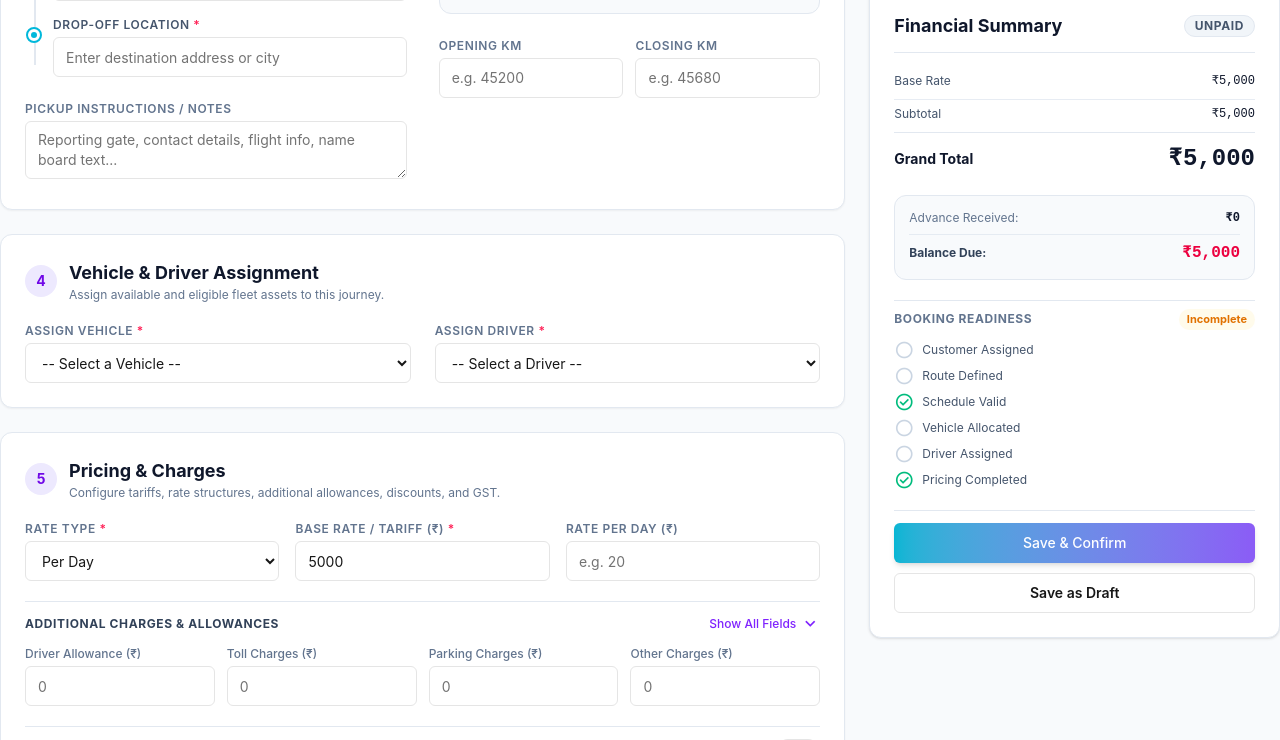
Scenario: TripForm Component › shows vehicle and driver snapshot cards with availability and compliance badges
(page scrolled)
Select "MH 12 AB 1234 — Toyota Innova Crysta (7 Seats)" in the dropdown labelled "Assign Vehicle *" at coordinates (218, 363), box [25, 343, 411, 383]
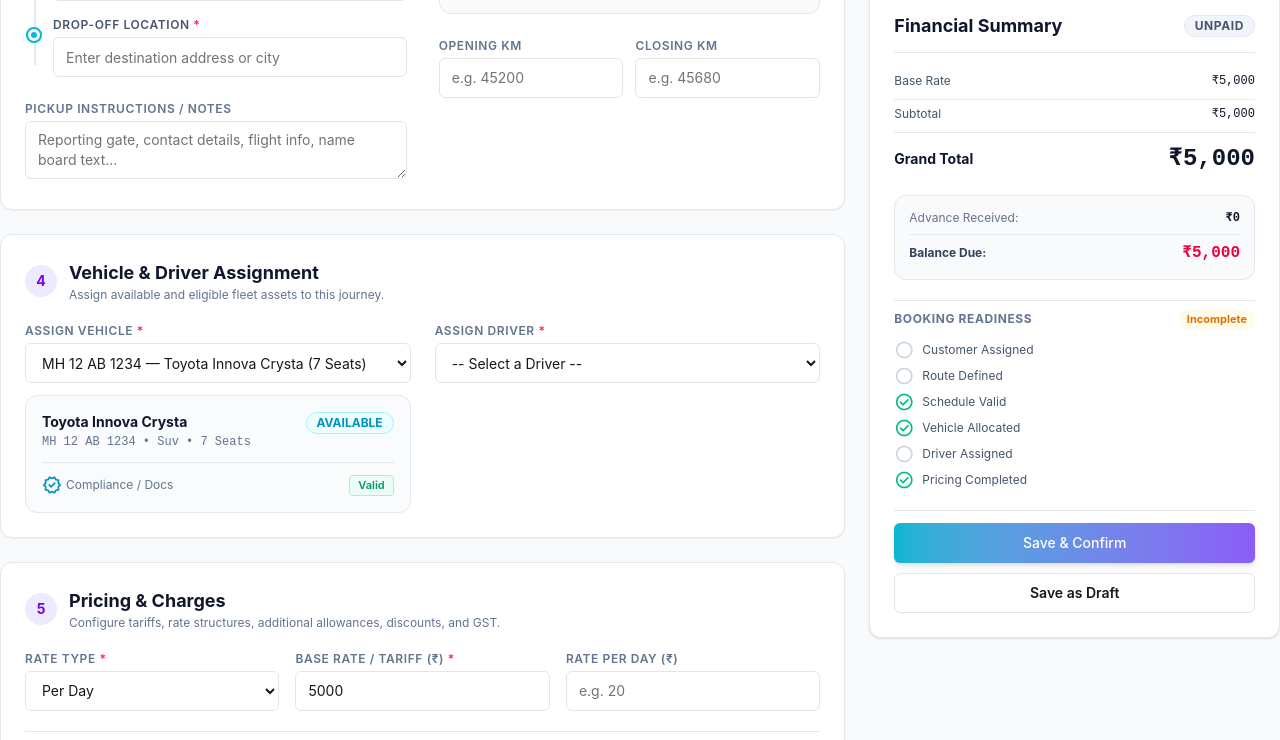
Check: the heading "Toyota Innova Crysta" is shown, box [42, 413, 187, 430]
Check: the text "Valid" is shown, box [349, 475, 394, 496]
Select "Rajesh Patil (DRV-001) · 9822011223" in the dropdown labelled "Assign Driver *" at coordinates (628, 363), box [435, 343, 820, 383]
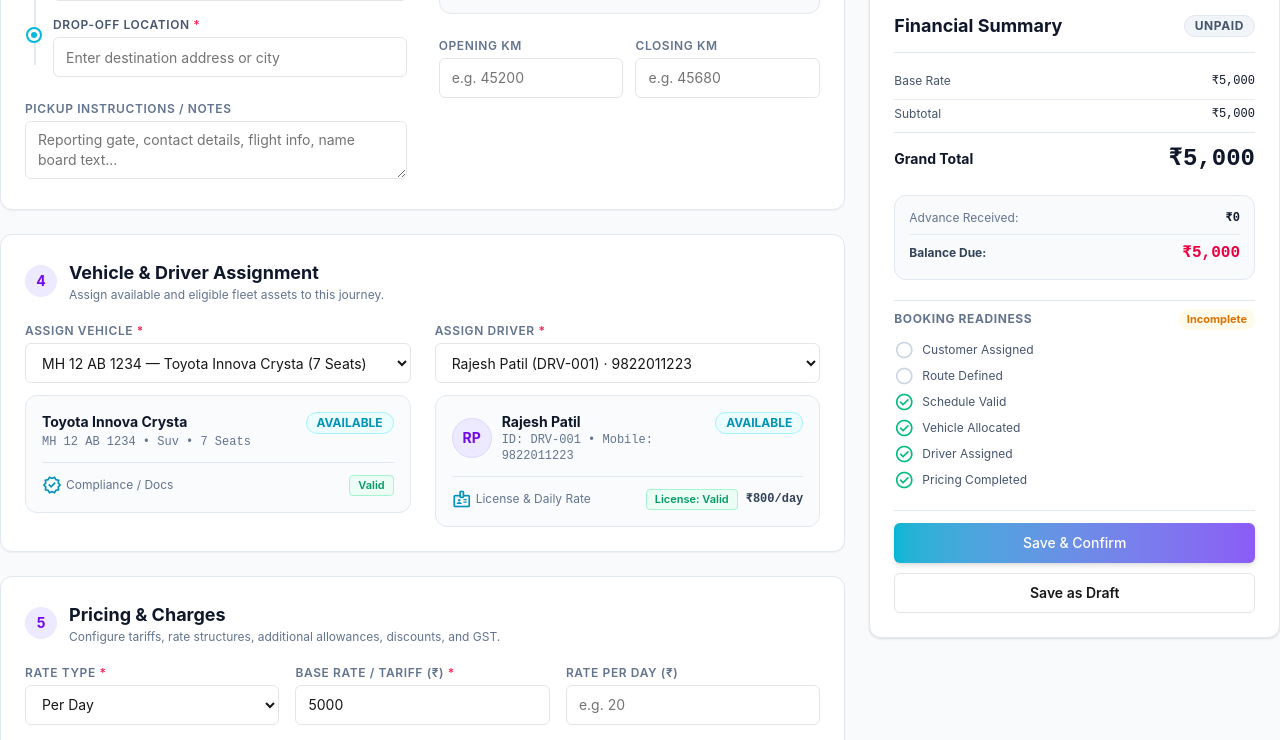
Check: the heading "Rajesh Patil" is shown, box [502, 413, 581, 430]
Check: the text "₹800/day" is shown, box [746, 491, 803, 507]
